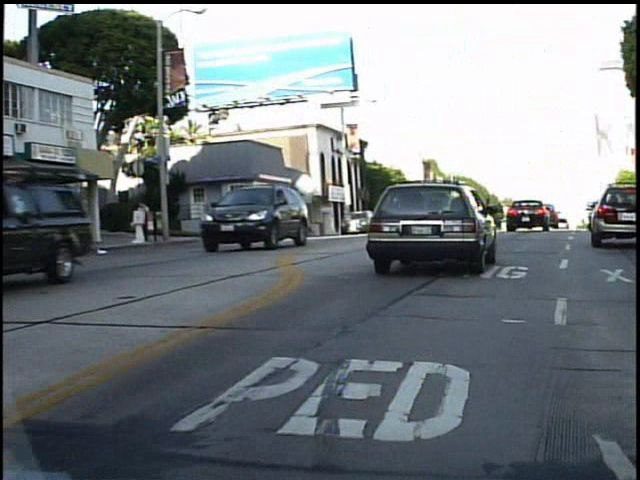person: (140, 197, 163, 242)
